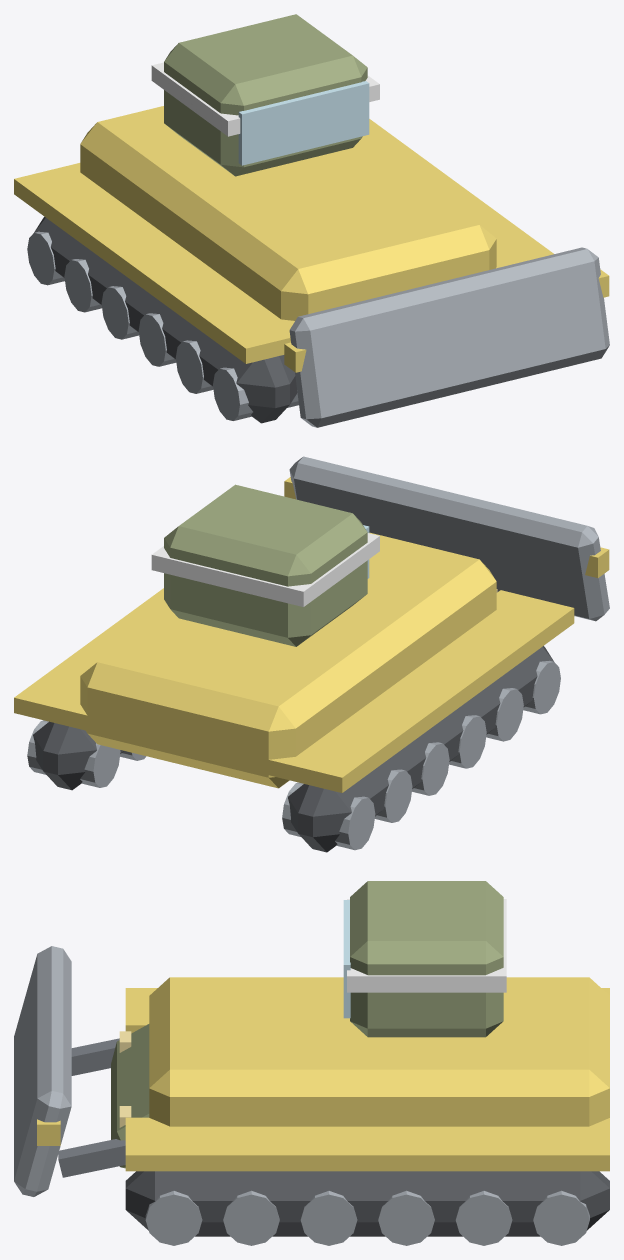
File: dozer.glb
3 views of the same model, one above another, from view 1: azimuth 30°, elevation 25°; view 2: azimuth 150°, elevation 25°; view 3: azimuth 270°, elevation 25° (orthographic). The views are drawn at different scales.
Visible parts, largest first — view 1: main; view 2: main; view 3: main.
Part boxes in pixels (x1,y1,x2,y2): main: [14, 14, 609, 427]; main: [14, 456, 609, 852]; main: [14, 881, 609, 1245].
Bounding box in the file's own units: 0.67 × 0.48 × 1.01.
